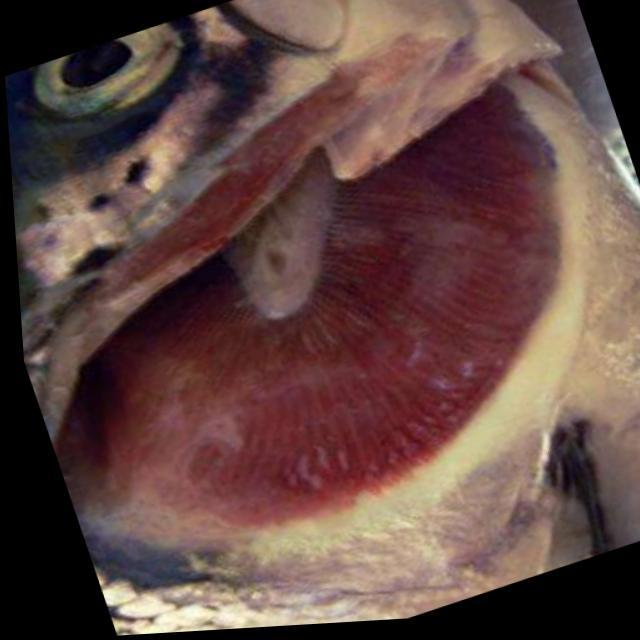Gill Disease: (19, 30, 634, 553)
